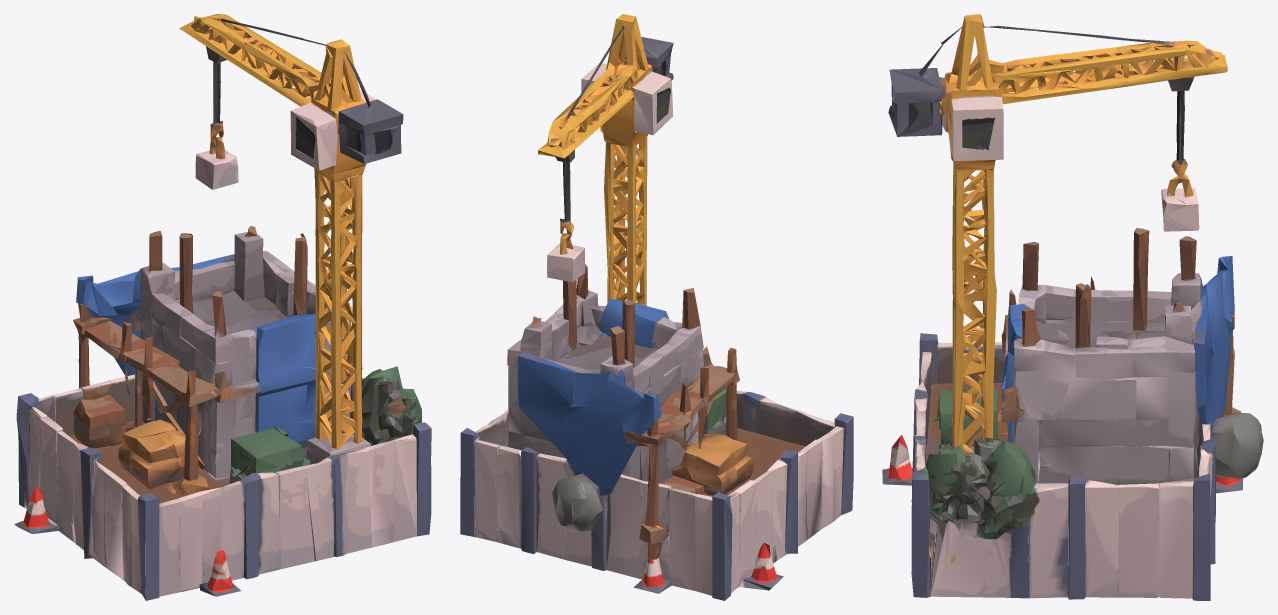
File: m11_05_construction.glb
3 renders of one model, left to right at view 1: azimuth 30°, elevation 25°; view 2: azimuth 150°, elevation 25°; view 3: azimuth 270°, elevation 25°, orthographic. The views are drawn at different scales.
Parts seen in each view (by area): view 1: construction; view 2: construction; view 3: construction.
Boxes of the visible parts, x1,y1,x2,y2 form: construction: (14, 14, 431, 600); construction: (460, 14, 853, 600); construction: (882, 14, 1263, 600).
Size of the model in its own units: 9.58 by 14.02 by 8.86.
1 material, 1 textured.
